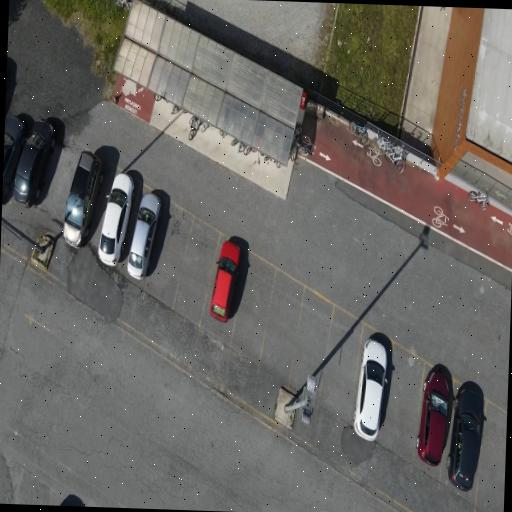harvester: (385, 146, 406, 173), (289, 124, 302, 162), (369, 134, 390, 154), (350, 122, 368, 145), (469, 191, 490, 210), (433, 206, 449, 228), (189, 116, 202, 140), (298, 136, 313, 154), (367, 147, 381, 166), (232, 140, 248, 152), (265, 156, 282, 167), (190, 116, 203, 130), (114, 0, 131, 9), (244, 146, 257, 155), (171, 106, 181, 114), (202, 123, 210, 132), (154, 94, 162, 101), (220, 130, 227, 137)
person: (446, 382, 484, 491), (64, 151, 103, 247), (13, 120, 55, 207), (354, 339, 387, 441), (99, 174, 134, 266), (416, 369, 449, 466), (127, 194, 160, 278), (210, 241, 240, 321), (2, 116, 25, 200)
